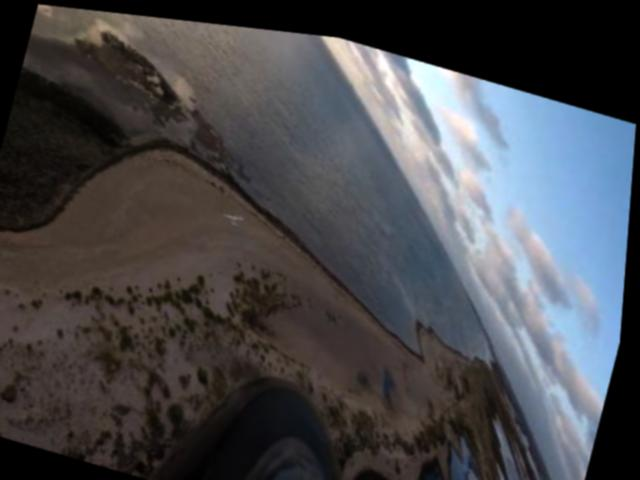uav: (218, 197, 253, 227)
